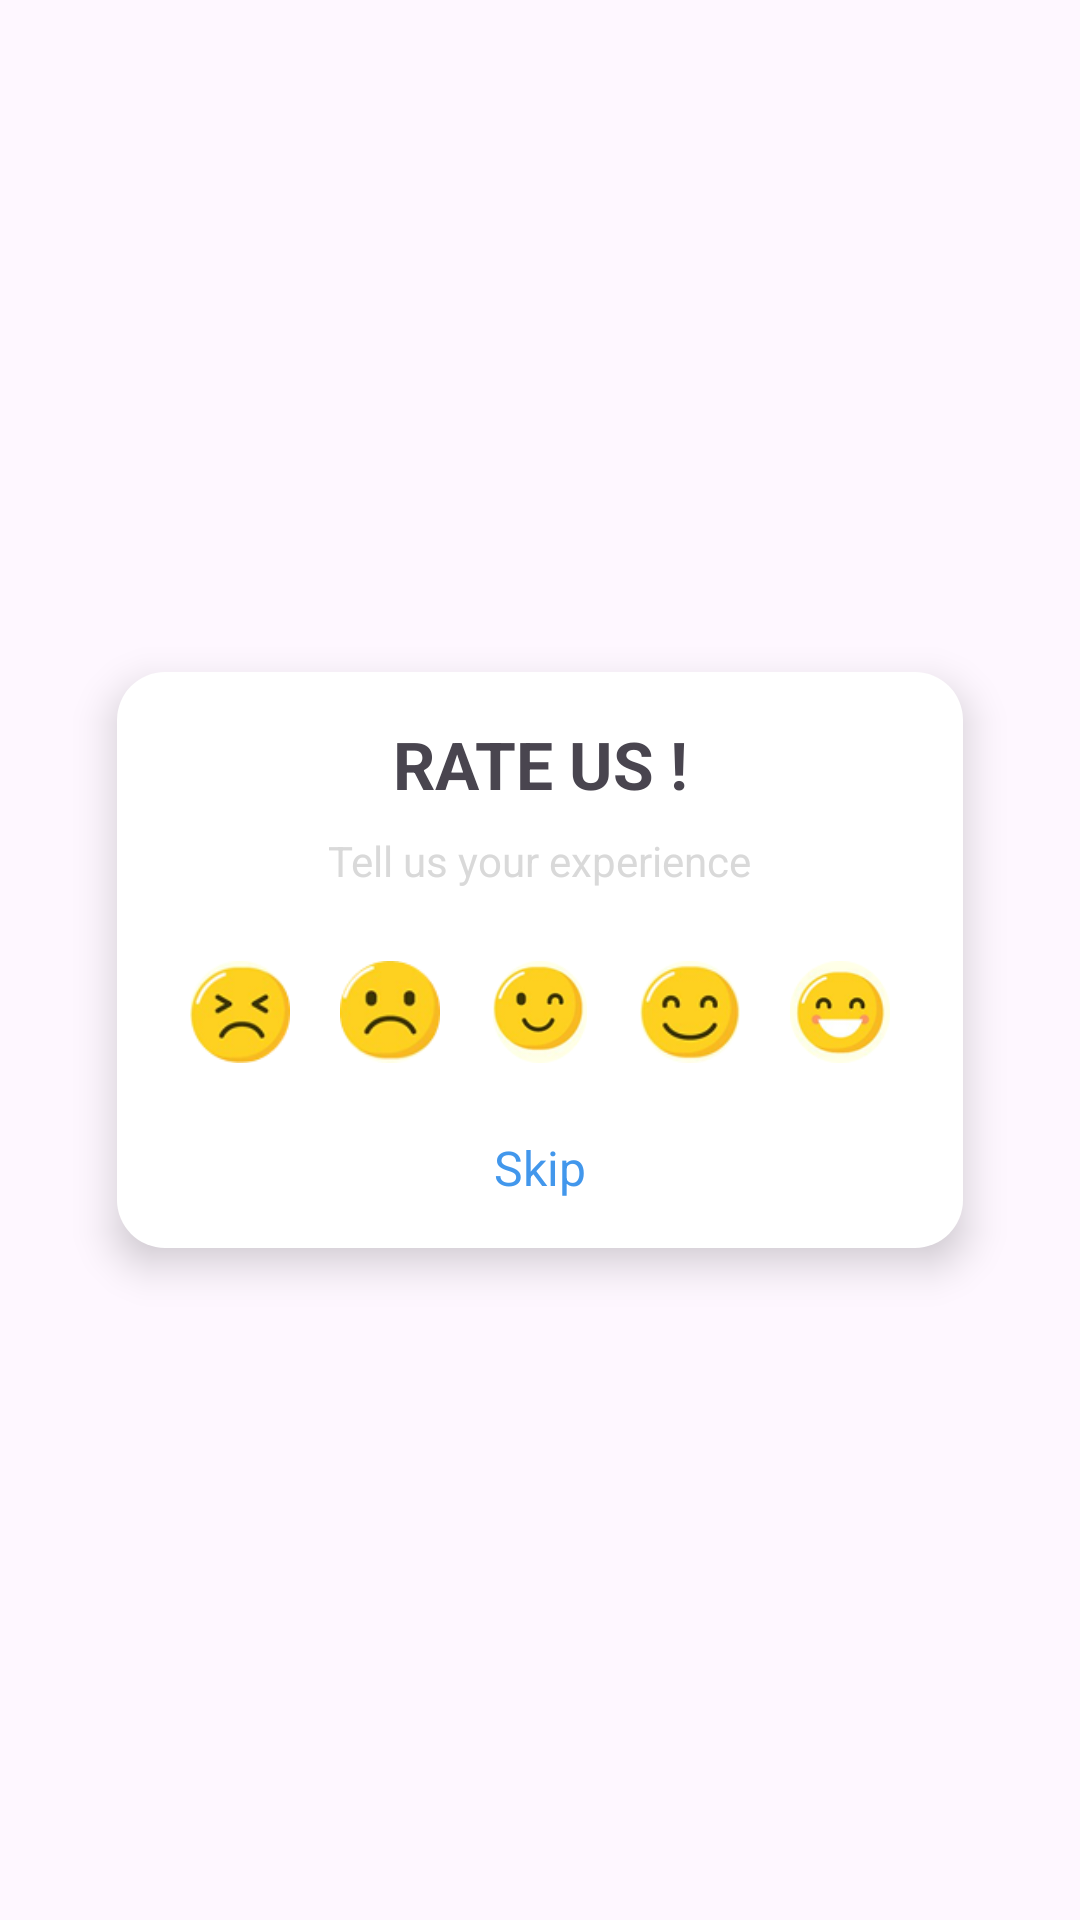

Where to tap for icons on this 1080x1920 app screen, as (x,y):
bad: (390,1012)
good: (690,1013)
great: (838,1014)
okey: (539,1012)
terrible: (240,1012)
